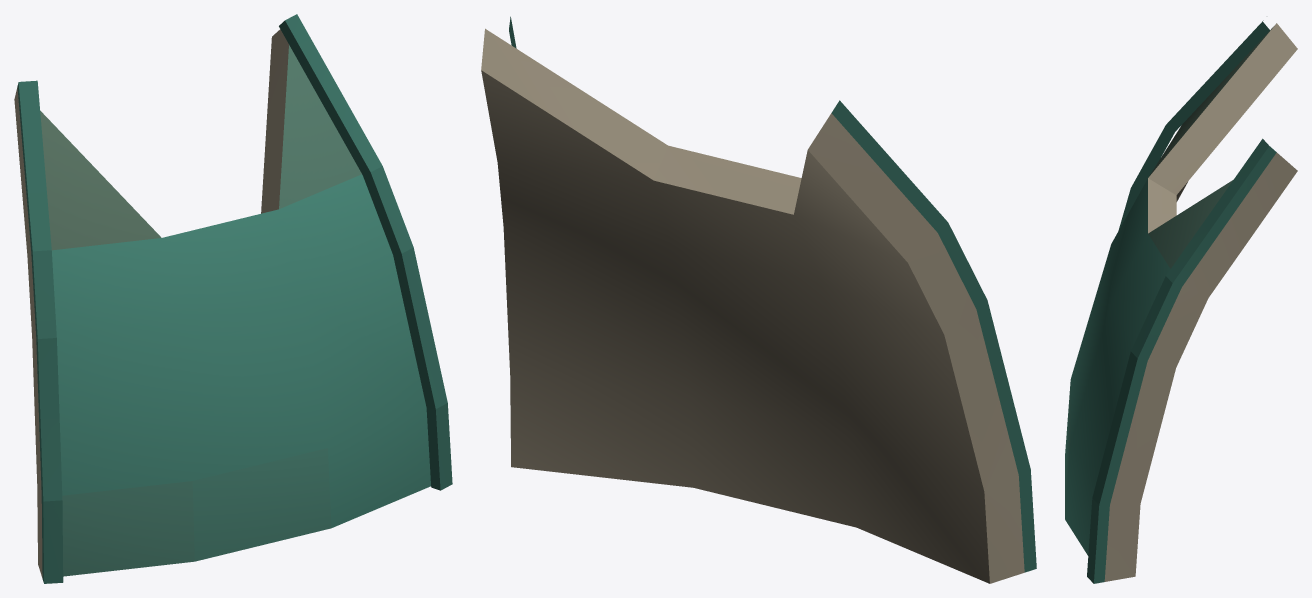
Rendered from dome.panel_8_broken.copper.glb.
3 views of the same model, side by side, from view 1: azimuth 30°, elevation 25°; view 2: azimuth 150°, elevation 25°; view 3: azimuth 270°, elevation 25° (orthographic). The views are drawn at different scales.
Parts seen in each view (by area): view 1: dome_panel_8_broken_copper; view 2: dome_panel_8_broken_copper; view 3: dome_panel_8_broken_copper.
Part boxes in pixels (x1,y1,x2,y2): dome_panel_8_broken_copper: (14,14,452,583); dome_panel_8_broken_copper: (481,16,1036,583); dome_panel_8_broken_copper: (1065,20,1297,583).
Size of what is drawn, in the model's own units: 2.73 by 2.68 by 1.39.
